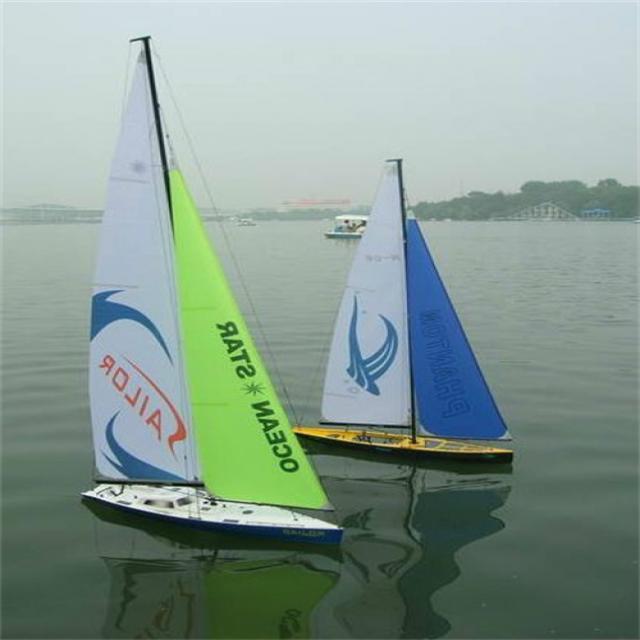Ship: (55, 30, 352, 545), (299, 149, 529, 468)
